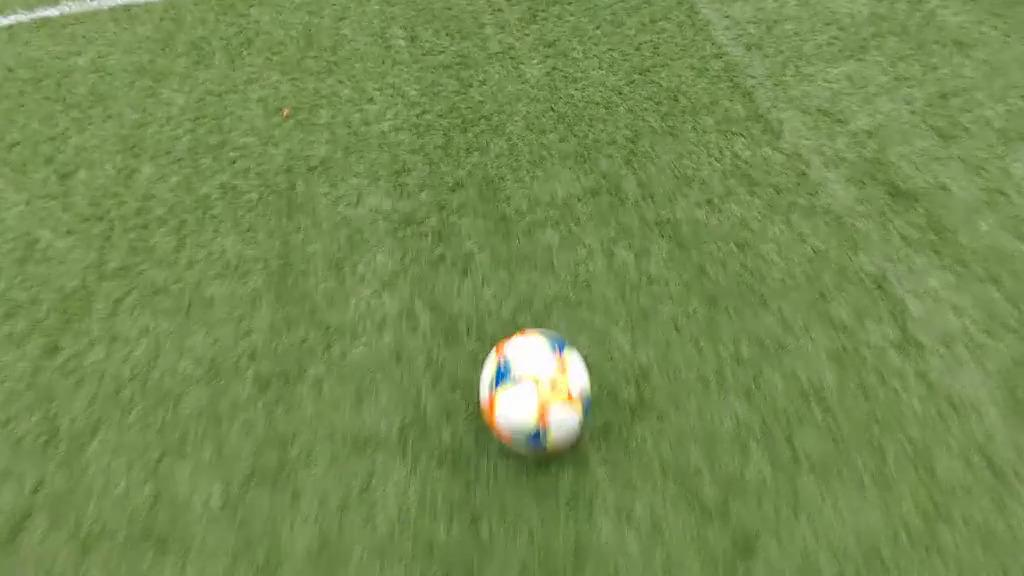ball: (479, 328, 593, 461)
